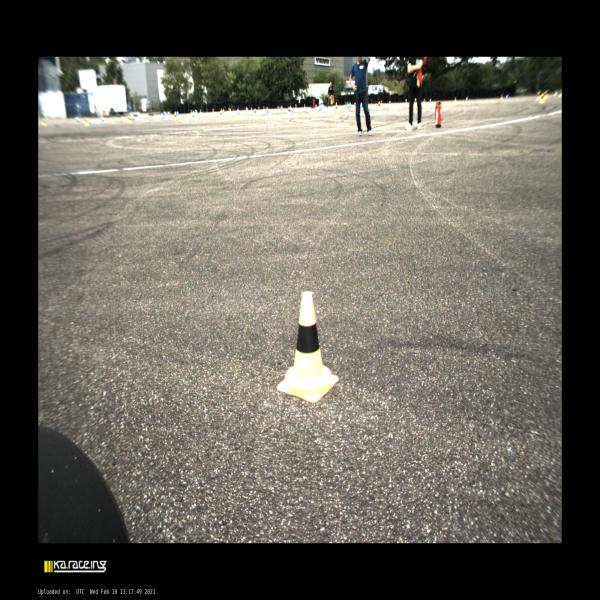blue_cone: (318, 104, 322, 110), (236, 108, 240, 114), (192, 110, 195, 117), (360, 102, 363, 108), (289, 105, 292, 111), (266, 106, 268, 113), (347, 102, 349, 108), (349, 102, 351, 108), (321, 103, 323, 109), (354, 102, 356, 107), (429, 98, 431, 103), (315, 103, 317, 108), (281, 105, 283, 110), (246, 107, 248, 112), (222, 108, 224, 113), (466, 97, 468, 101), (277, 105, 279, 109), (389, 101, 391, 104), (229, 108, 231, 111), (251, 107, 252, 111), (196, 110, 197, 114)
yellow_cone: (276, 292, 338, 402), (335, 102, 338, 109), (414, 97, 417, 104), (454, 97, 457, 102), (380, 100, 383, 105), (378, 101, 380, 107), (303, 104, 306, 108), (424, 98, 426, 103), (295, 104, 297, 109), (288, 107, 290, 112), (254, 108, 256, 113), (220, 110, 222, 115), (190, 109, 192, 114), (405, 99, 407, 103), (345, 102, 347, 106), (263, 106, 265, 110), (258, 106, 260, 110), (228, 108, 230, 112), (212, 109, 214, 112), (194, 110, 196, 113), (200, 109, 201, 114), (221, 108, 222, 111)
